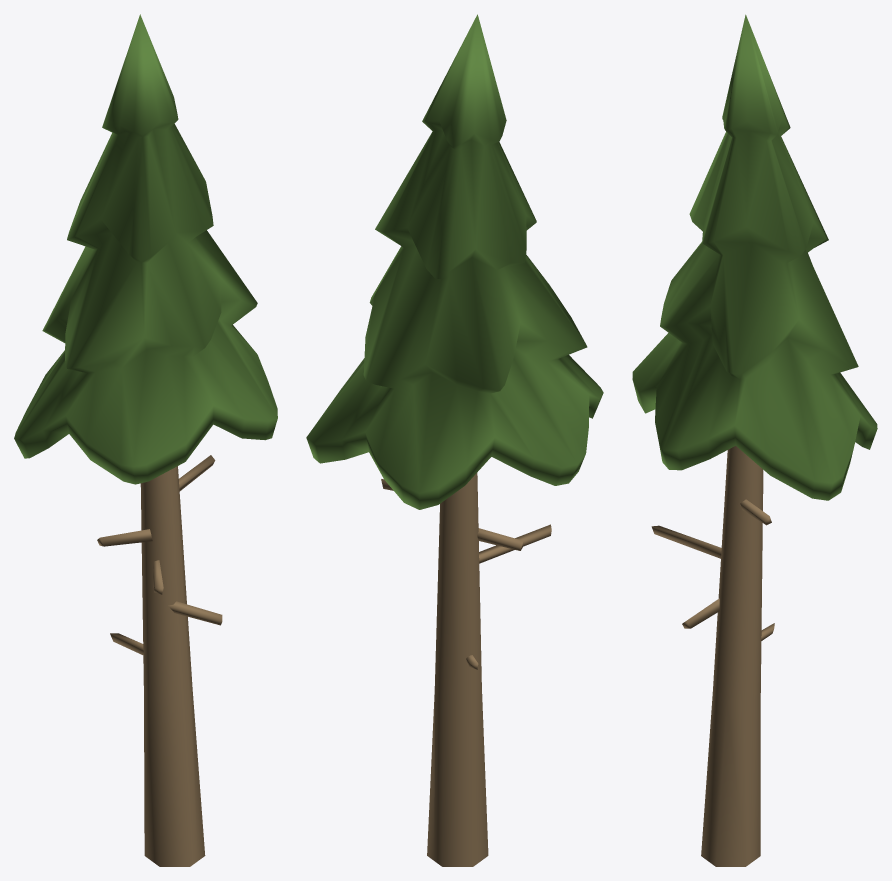
The model's file is rpgpp_av_tree_pine_01c.gltf.
3 renders of one model, left to right at view 1: azimuth 30°, elevation 25°; view 2: azimuth 150°, elevation 25°; view 3: azimuth 270°, elevation 25°, orthographic. The views are drawn at different scales.
Visible parts, largest first — view 1: rpgpp_av_tree_pine_01c; view 2: rpgpp_av_tree_pine_01c; view 3: rpgpp_av_tree_pine_01c.
Part boxes in pixels (x1,y1,x2,y2): rpgpp_av_tree_pine_01c: [14, 14, 277, 866]; rpgpp_av_tree_pine_01c: [306, 14, 603, 866]; rpgpp_av_tree_pine_01c: [632, 14, 877, 866].
Bounding box in the file's own units: 0.0359 × 0.121 × 0.0324.
1 material, 1 textured.
